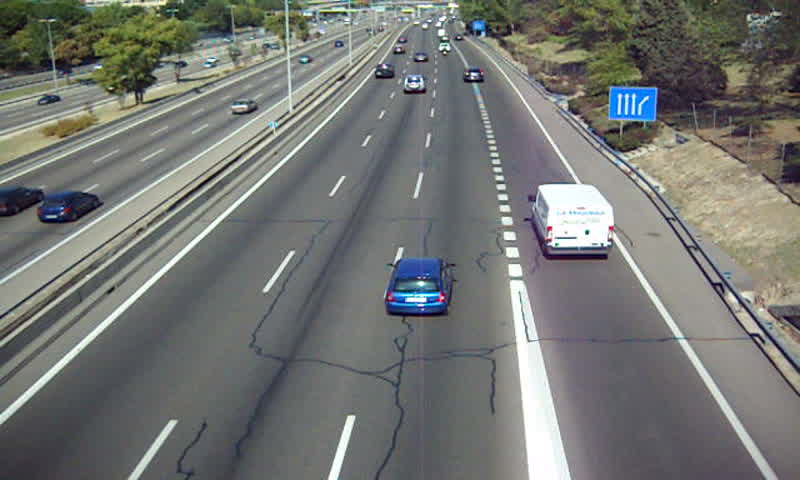car: (385, 259, 453, 315), (402, 76, 426, 94), (461, 68, 487, 83), (375, 62, 395, 80)
van: (527, 184, 615, 257)
